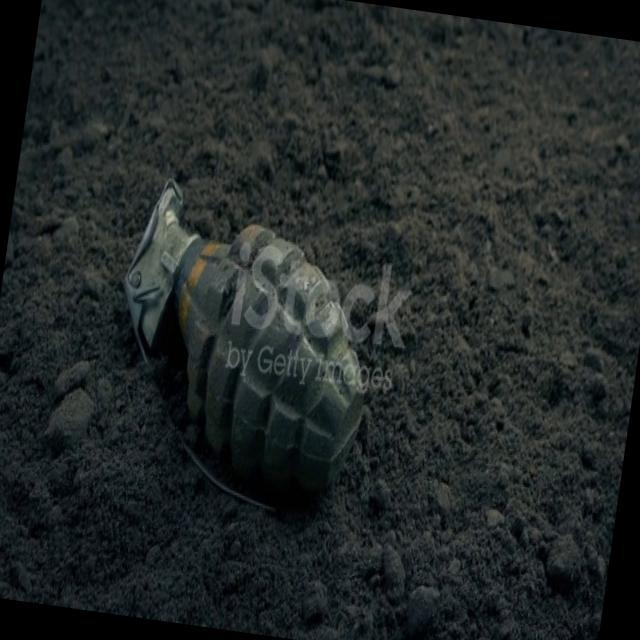grenade: (94, 176, 396, 533)
